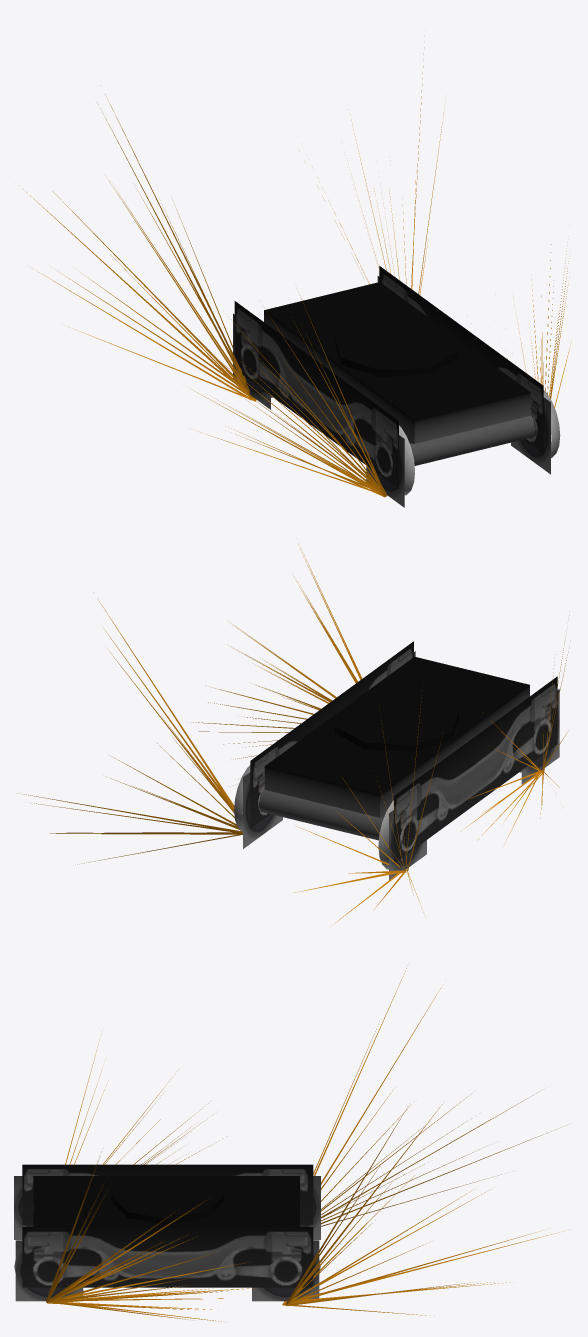
Rendered from K800_TRACK_NALOW.glb.
3 views of the same model, one above another, from view 1: azimuth 30°, elevation 25°; view 2: azimuth 150°, elevation 25°; view 3: azimuth 270°, elevation 25° (orthographic). The views are drawn at different scales.
Visible parts, largest first — view 1: obj1, Fire1_R_1, Fire0_R_0; view 2: obj1, Fire1_L_0, Fire0_L_1, Fire0_L_0, Fire1_R_1, Fire0_R_0; view 3: obj1, Fire1_L_1, Fire0_L_0, Fire0_L_1, Fire1_R_0, Fire0_R_1.
Part boxes in pixels (x1=…): obj1: x1=233, y1=266, x2=560, y2=507; Fire1_R_1: x1=19, y1=98, x2=256, y2=401; Fire0_R_0: x1=195, y1=298, x2=387, y2=497; obj1: x1=234, y1=641, x2=559, y2=879; Fire1_L_0: x1=26, y1=603, x2=242, y2=862; Fire0_L_1: x1=190, y1=547, x2=362, y2=758; Fire0_L_0: x1=187, y1=549, x2=361, y2=756; Fire1_R_1: x1=295, y1=698, x2=421, y2=922; Fire0_R_0: x1=466, y1=709, x2=559, y2=840; obj1: x1=14, y1=1164, x2=320, y2=1301; Fire1_L_1: x1=282, y1=1107, x2=556, y2=1315; Fire0_L_0: x1=46, y1=1161, x2=253, y2=1321; Fire0_L_1: x1=46, y1=1161, x2=252, y2=1321; Fire1_R_0: x1=313, y1=968, x2=543, y2=1226; Fire0_R_1: x1=65, y1=1046, x2=219, y2=1164.
Size of the model in its own units: 9.2 by 6.14 by 12.81.
Materials: 13 (4 with a texture image).
